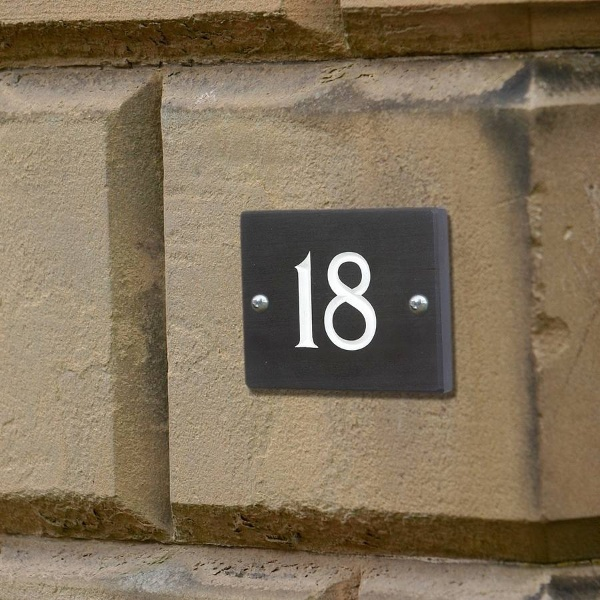text: (305, 251, 320, 353), (321, 251, 336, 353), (337, 251, 352, 353), (353, 251, 368, 353), (294, 251, 304, 353), (369, 251, 378, 353)
